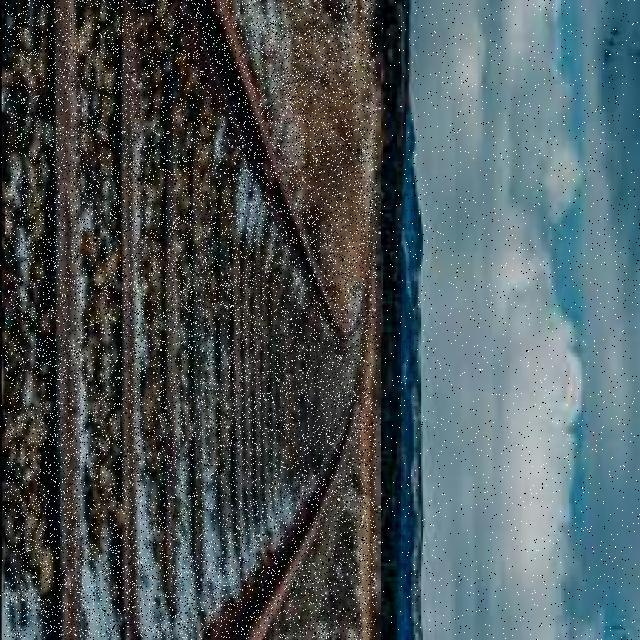rail: (6, 1, 377, 638)
